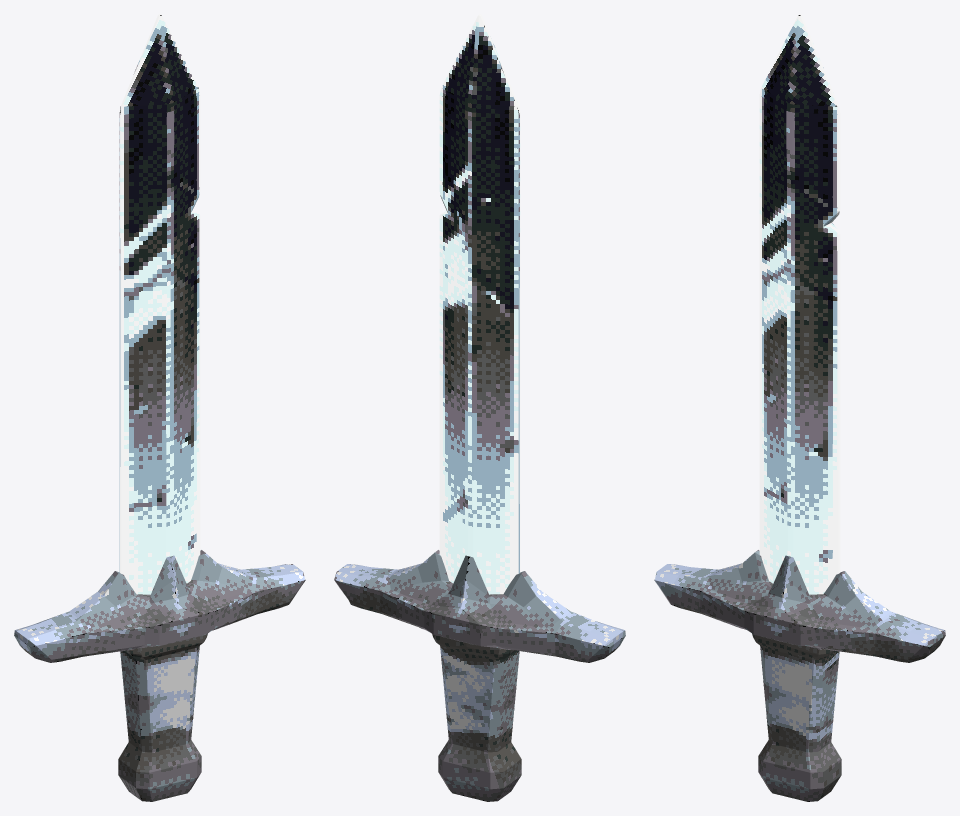
File: Sword.glb
3 views of the same model, side by side, from view 1: azimuth 30°, elevation 25°; view 2: azimuth 150°, elevation 25°; view 3: azimuth 330°, elevation 25° (orthographic).
Parts seen in each view (by area): view 1: Blade, Handle; view 2: Blade, Handle; view 3: Blade, Handle.
Boxes of the visible parts, x1,y1,x2,y2 form: Blade: [119, 14, 200, 594]; Handle: [14, 550, 305, 801]; Blade: [439, 14, 520, 594]; Handle: [334, 550, 625, 801]; Blade: [759, 14, 840, 594]; Handle: [654, 550, 945, 801].
Bounding box in the file's own units: 2.13 × 5.71 × 0.6151.
Materials: 3 (3 with a texture image).
